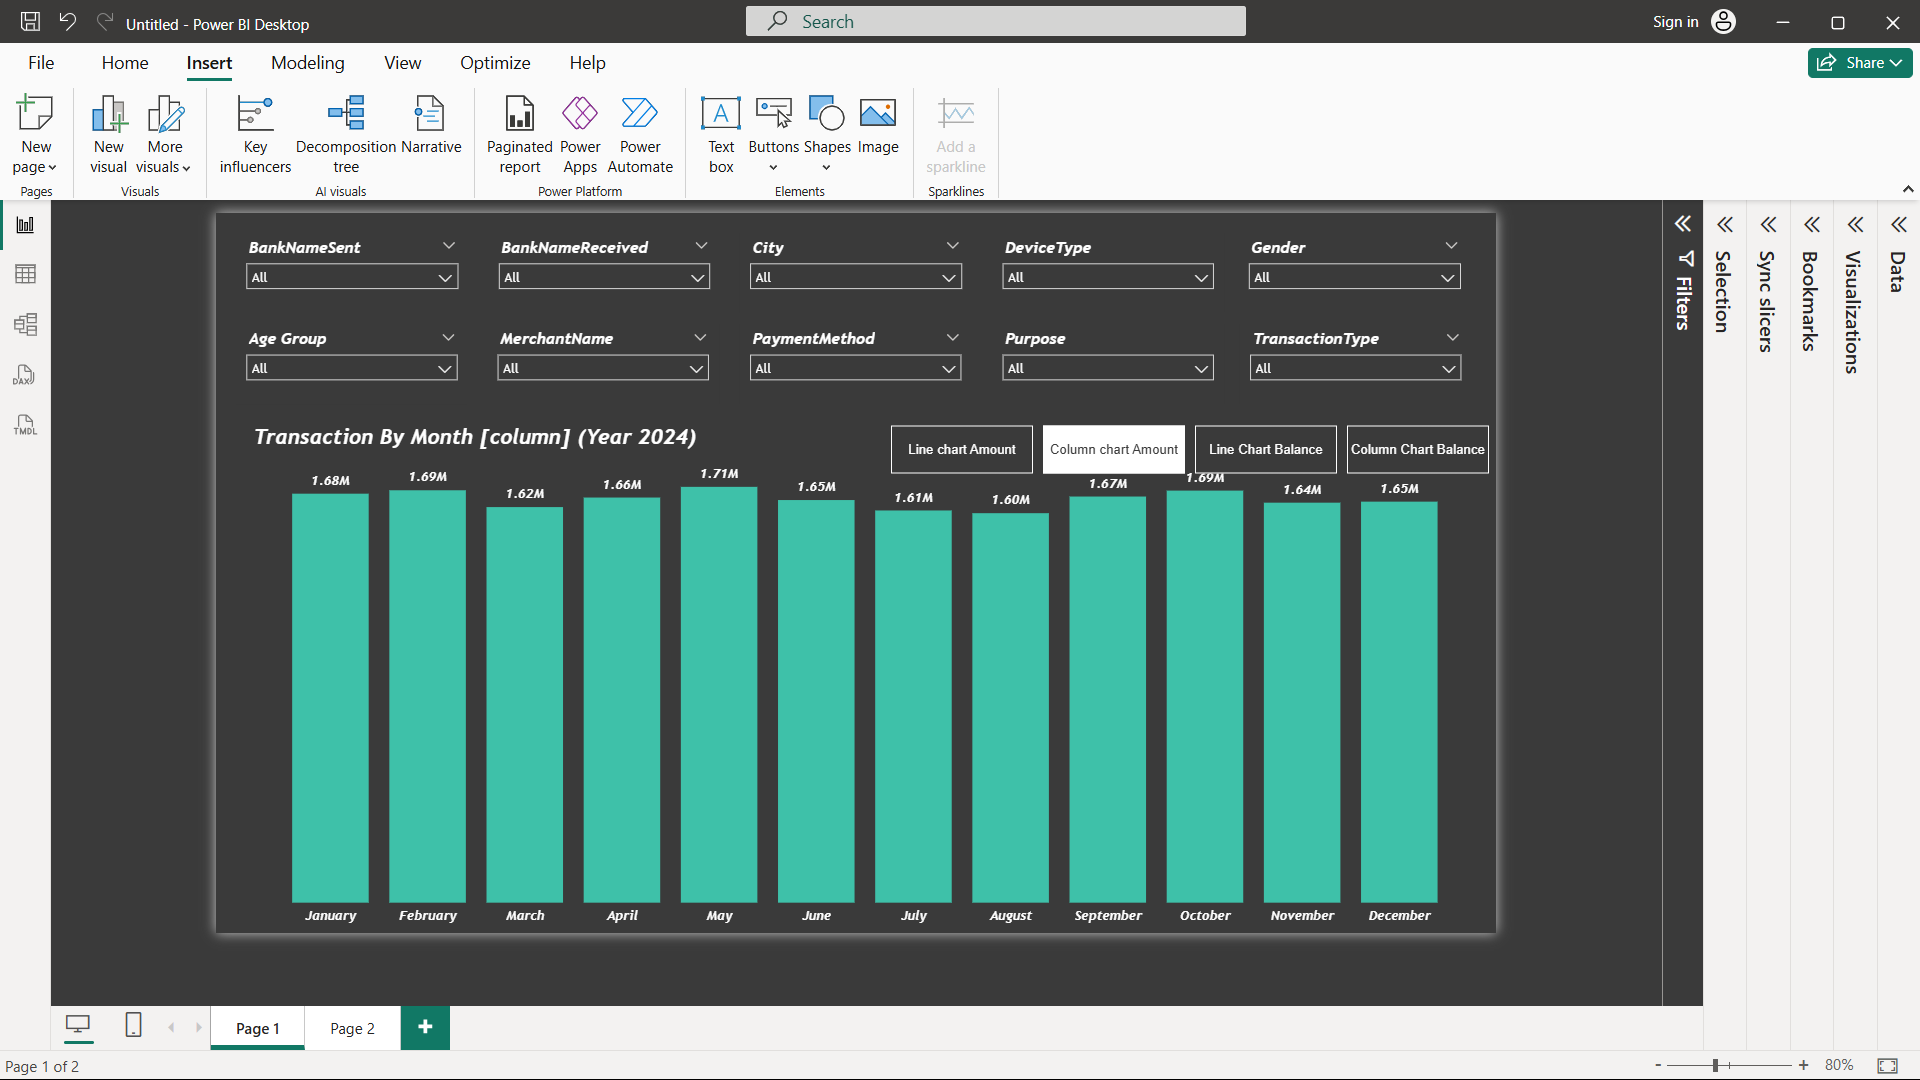

Layout of this report page (visuals, bound fields, positions):
{"tool":"powerbi","page":{"name":"Page 1","canvas":[1280,720],"ordinal":0},"visuals":[{"type":"slicer","fields":{"Values":["Sheet1.BankNameSent"]},"box":[20,20,232,80],"z":0},{"type":"slicer","fields":{"Values":["Sheet1.BankNameSent"]},"box":[272,20.6,231.9,79.6],"z":1000},{"type":"slicer","fields":{"Values":["Sheet1.BankNameSent"]},"box":[524,20.6,232,80],"z":2000},{"type":"slicer","fields":{"Values":["Sheet1.BankNameSent"]},"box":[776,20.6,231.9,79.6],"z":3000},{"type":"slicer","fields":{"Values":["Sheet1.BankNameSent"]},"box":[1023,20.6,232,80],"z":4000},{"type":"slicer","fields":{"Values":["Sheet1.BankNameSent"]},"box":[19.8,111.6,231.4,80.2],"z":4001},{"type":"slicer","fields":{"Values":["Sheet1.BankNameSent"]},"box":[271.7,111.1,231.9,79.6],"z":4002},{"type":"slicer","fields":{"Values":["Sheet1.BankNameSent"]},"box":[524.2,111.1,231.9,79.6],"z":4003},{"type":"slicer","fields":{"Values":["Sheet1.BankNameSent"]},"box":[776.7,111.1,231.9,79.6],"z":4004},{"type":"slicer","fields":{"Values":["Sheet1.BankNameSent"]},"box":[1023.7,111.1,231.9,79.6],"z":4005}]}

Visuals, with their boxes on the page's 1280x720 design canvas (x1, y1, x2, y2). These are canvas units, not pixel positions in the 1920x1080 screenshot, which may show the page scaled, cropped or inside an application window:
slicer - Sheet1.BankNameSent: Rect(20, 20, 252, 100)
slicer - Sheet1.BankNameSent: Rect(272, 21, 504, 100)
slicer - Sheet1.BankNameSent: Rect(524, 21, 756, 101)
slicer - Sheet1.BankNameSent: Rect(776, 21, 1008, 100)
slicer - Sheet1.BankNameSent: Rect(1023, 21, 1255, 101)
slicer - Sheet1.BankNameSent: Rect(20, 112, 251, 192)
slicer - Sheet1.BankNameSent: Rect(272, 111, 504, 191)
slicer - Sheet1.BankNameSent: Rect(524, 111, 756, 191)
slicer - Sheet1.BankNameSent: Rect(777, 111, 1009, 191)
slicer - Sheet1.BankNameSent: Rect(1024, 111, 1256, 191)
